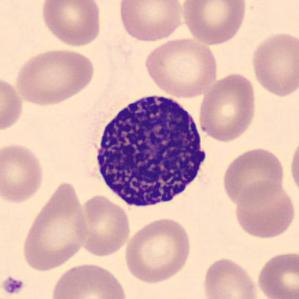Basophil: (85, 86, 215, 215)
Platelets: (1, 275, 26, 297)
RBC: (19, 178, 90, 272), (12, 46, 97, 107), (122, 216, 194, 285), (143, 36, 219, 99), (197, 71, 258, 143), (220, 145, 286, 208), (231, 180, 297, 240), (73, 192, 133, 258), (248, 30, 298, 98), (179, 0, 248, 46), (39, 0, 104, 48), (48, 261, 130, 299), (0, 141, 47, 205), (116, 0, 185, 43), (201, 255, 262, 299), (254, 248, 299, 299), (0, 73, 25, 134), (287, 135, 299, 199)
